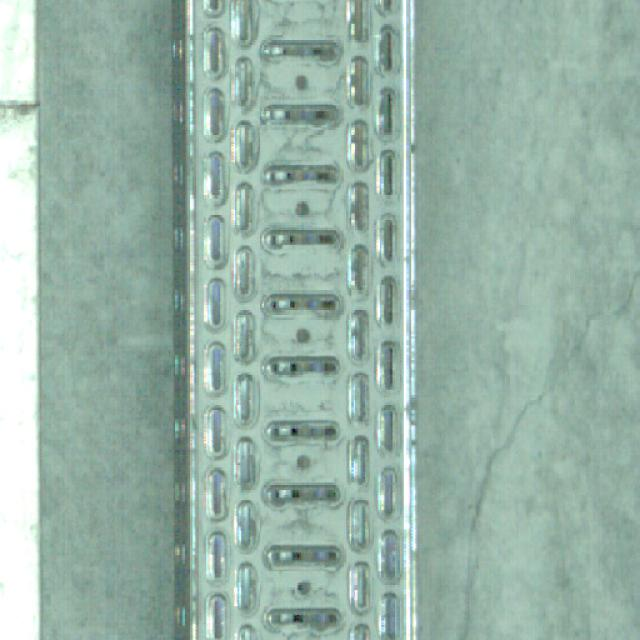Diagonal: (450, 195, 640, 640)
